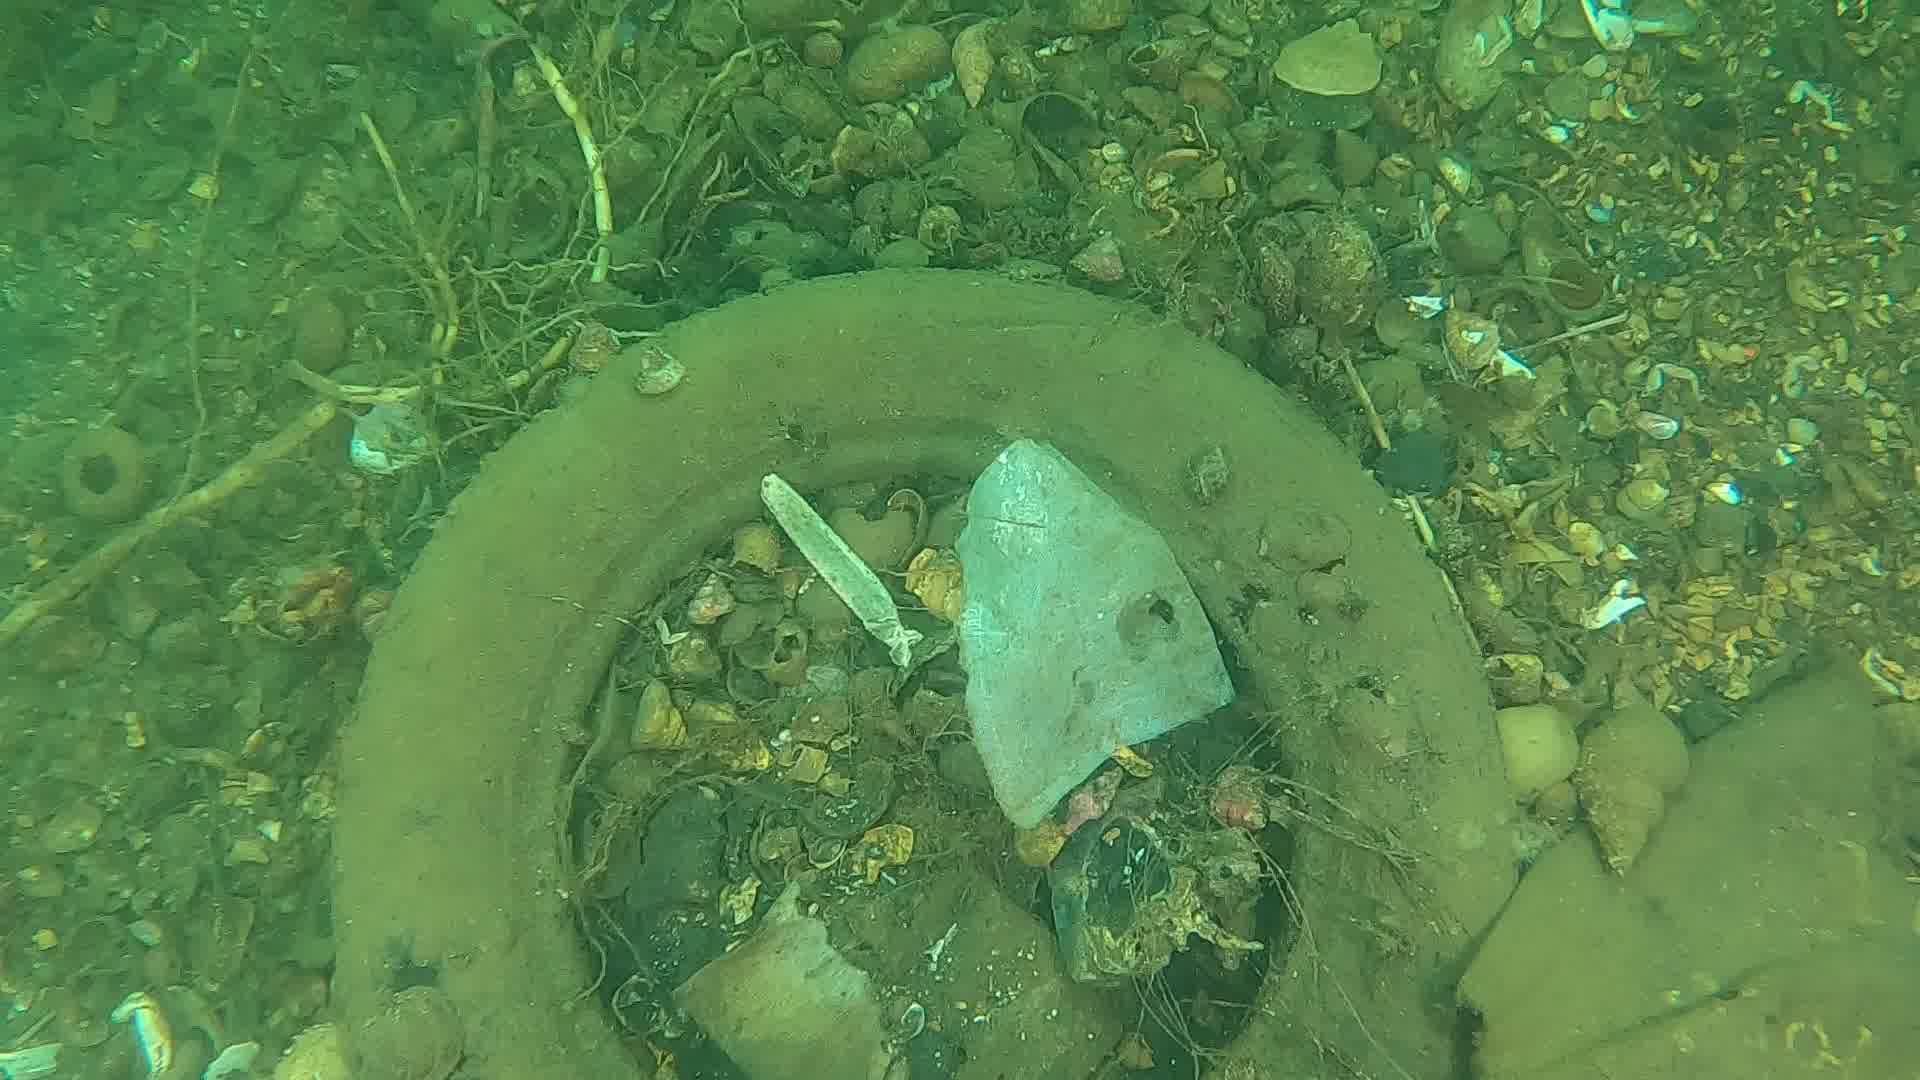tire: (316, 261, 1530, 1080)
